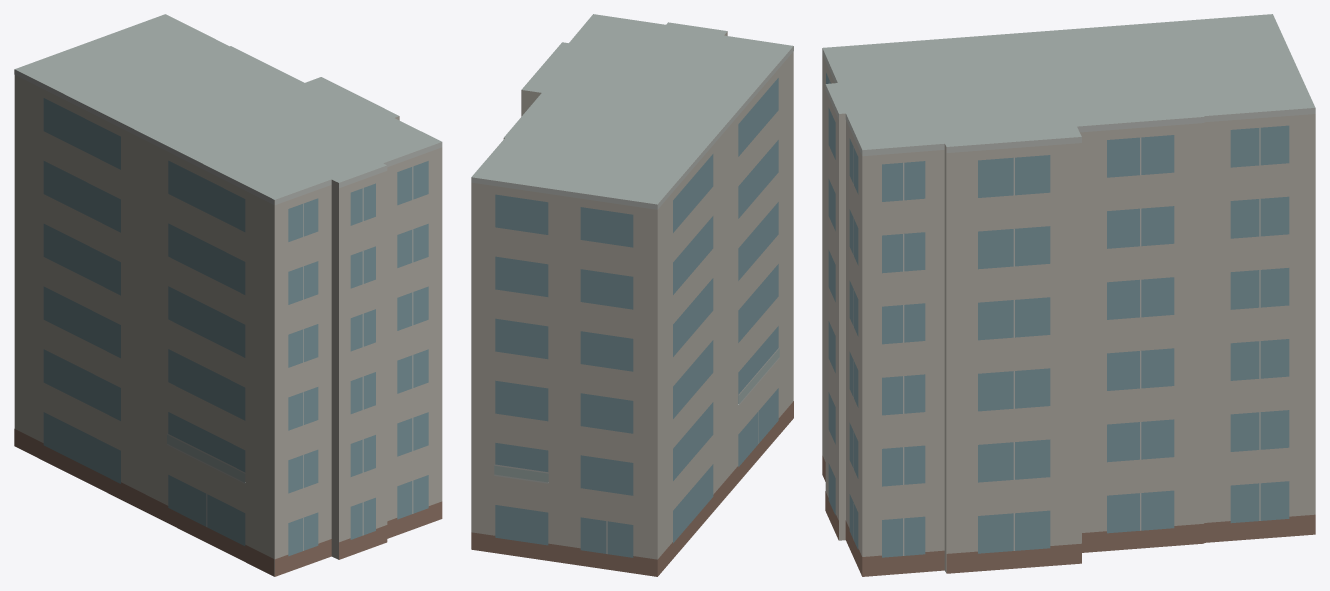
Rendered from survey-upis-33003885.glb.
The picture shows the model from 3 angles, left to right: view 1: azimuth 30°, elevation 25°; view 2: azimuth 150°, elevation 25°; view 3: azimuth 270°, elevation 25°; orthographic projection. The views are drawn at different scales.
Visible parts, largest first — view 1: survey-upis-33003885.tmp; view 2: survey-upis-33003885.tmp; view 3: survey-upis-33003885.tmp.
Boxes of the visible parts, box(x1,y1,x2,y2) form: survey-upis-33003885.tmp: box(14, 14, 442, 576); survey-upis-33003885.tmp: box(471, 14, 793, 576); survey-upis-33003885.tmp: box(822, 14, 1315, 576).
Size of the model in its own units: 11.68 by 17.05 by 17.87.
